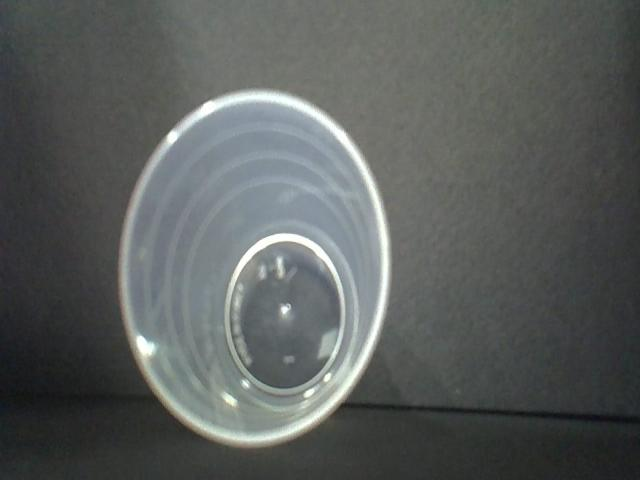cup: (116, 85, 394, 454)
